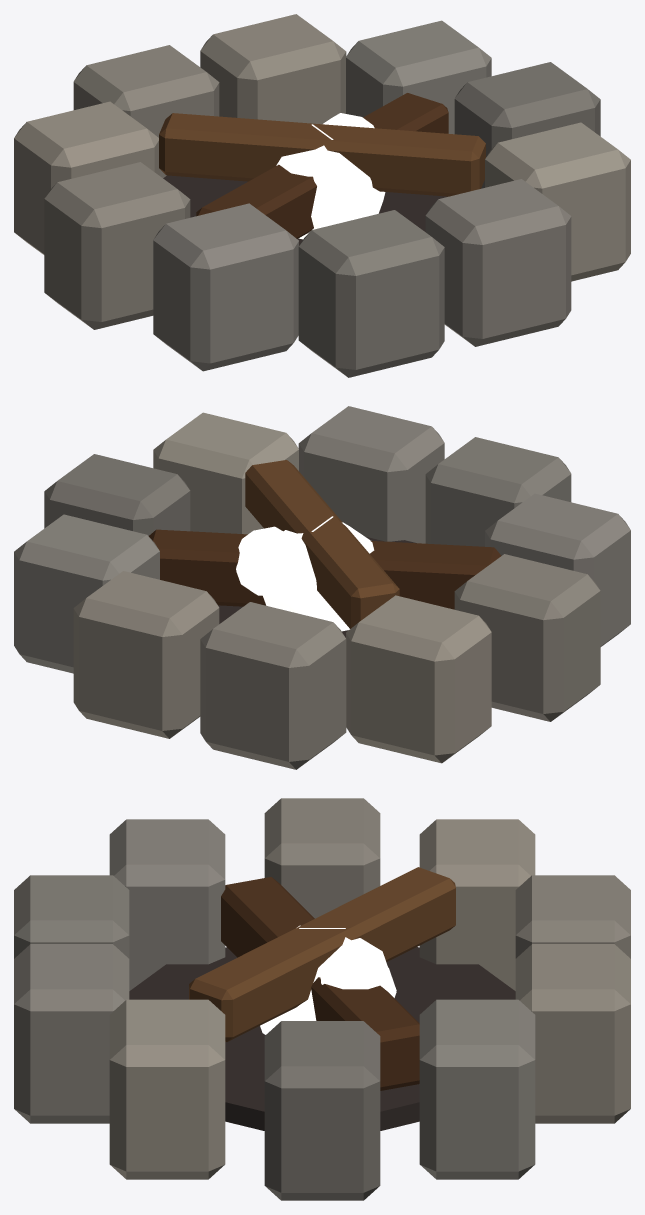
The model's file is FirePit.glb.
The picture shows the model from 3 angles, top to bottom: view 1: azimuth 30°, elevation 25°; view 2: azimuth 150°, elevation 25°; view 3: azimuth 270°, elevation 25°; orthographic projection. The views are drawn at different scales.
Visible parts, largest first — view 1: Body, Glow; view 2: Body, Glow; view 3: Body, Glow.
Part boxes in pixels (bbox=[...]): Body: bbox=[14, 14, 630, 377]; Glow: bbox=[276, 113, 385, 239]; Body: bbox=[14, 406, 630, 769]; Glow: bbox=[236, 516, 374, 631]; Body: bbox=[14, 798, 630, 1200]; Glow: bbox=[260, 925, 396, 1034].
Size of what is drawn, in the model's own units: 4.05 by 0.928 by 3.74.
